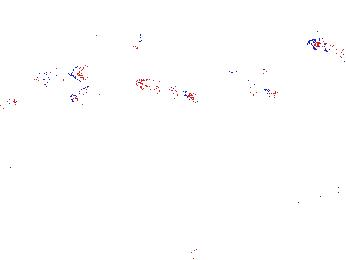X-ray fish: (67, 85, 109, 107)
glassfish: (272, 179, 346, 219)
red belly glassfish: (258, 53, 273, 83), (129, 29, 143, 57)
redtail glassfish: (227, 65, 277, 103), (129, 77, 193, 103), (28, 63, 90, 86), (307, 33, 346, 58)
